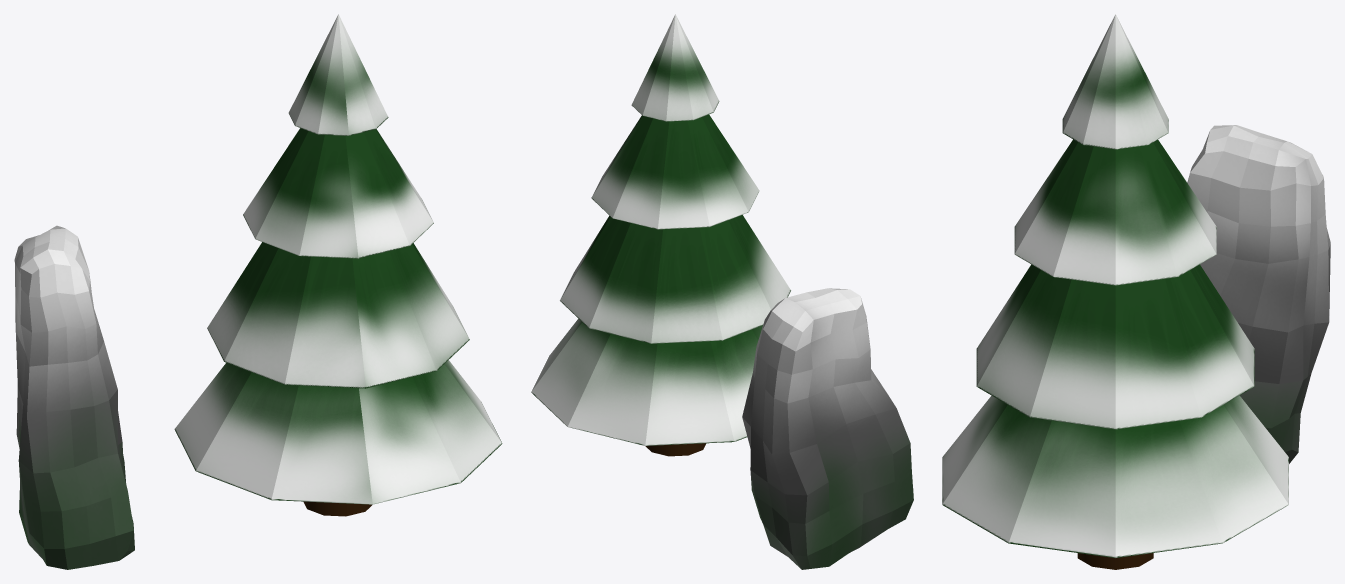
The model's file is Tree_TEX.FBX.
3 views of the same model, side by side, from view 1: azimuth 30°, elevation 25°; view 2: azimuth 150°, elevation 25°; view 3: azimuth 270°, elevation 25° (orthographic). The views are drawn at different scales.
Parts seen in each view (by area): view 1: Cylinder002; view 2: Cylinder002; view 3: Cylinder002.
Boxes of the visible parts, <box> form: Cylinder002: <box>14,14,502,569</box>; Cylinder002: <box>531,14,913,569</box>; Cylinder002: <box>942,14,1330,569</box>.
Bounding box in the file's own units: 52.56 × 61.35 × 37.3.
Materials: 1 (1 with a texture image).
